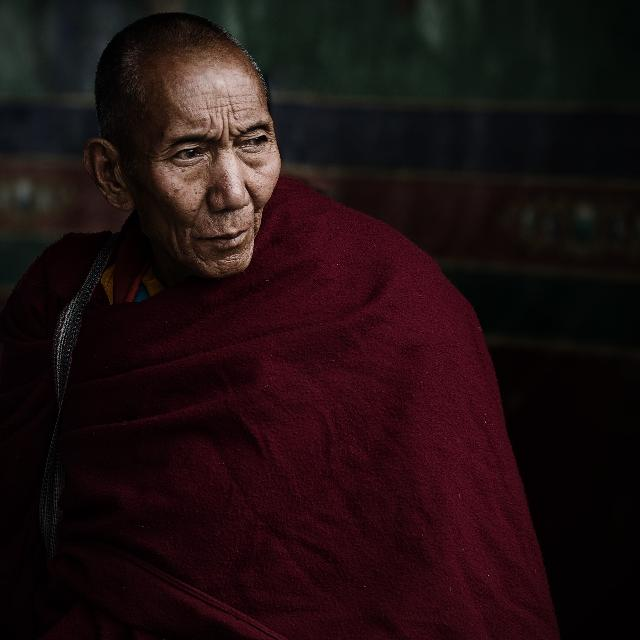chin: (190, 248, 210, 272)
crows_feet: (148, 148, 172, 170)
forehead: (212, 93, 242, 113)
frown_line: (219, 122, 239, 148)
gummy_smile: (189, 191, 207, 229), (244, 186, 262, 218)
masseter: (167, 218, 183, 254)
